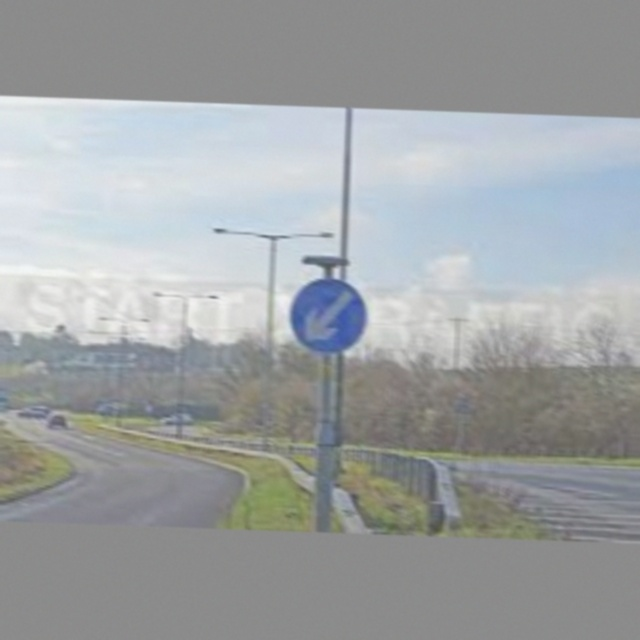Compulsory_Keep_Left: (289, 272, 367, 358)
